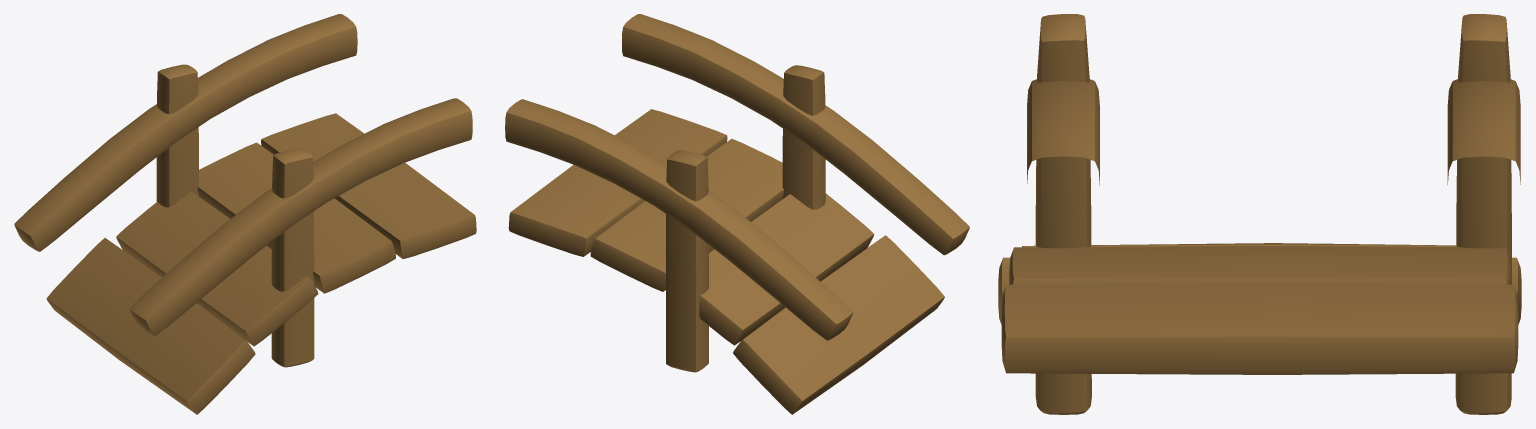
Rendered from quaternius-platformer-game-bridge-modular.glb.
3 renders of one model, left to right at view 1: azimuth 30°, elevation 25°; view 2: azimuth 150°, elevation 25°; view 3: azimuth 270°, elevation 25°, orthographic. The views are drawn at different scales.
Visible parts, largest first — view 1: Bridge_Modular; view 2: Bridge_Modular; view 3: Bridge_Modular.
Part boxes in pixels (bbox=[...]): Bridge_Modular: bbox=[14, 14, 476, 414]; Bridge_Modular: bbox=[505, 14, 969, 414]; Bridge_Modular: bbox=[998, 14, 1521, 414].
Bounding box in the file's own units: 2.95 × 2.01 × 2.24.
